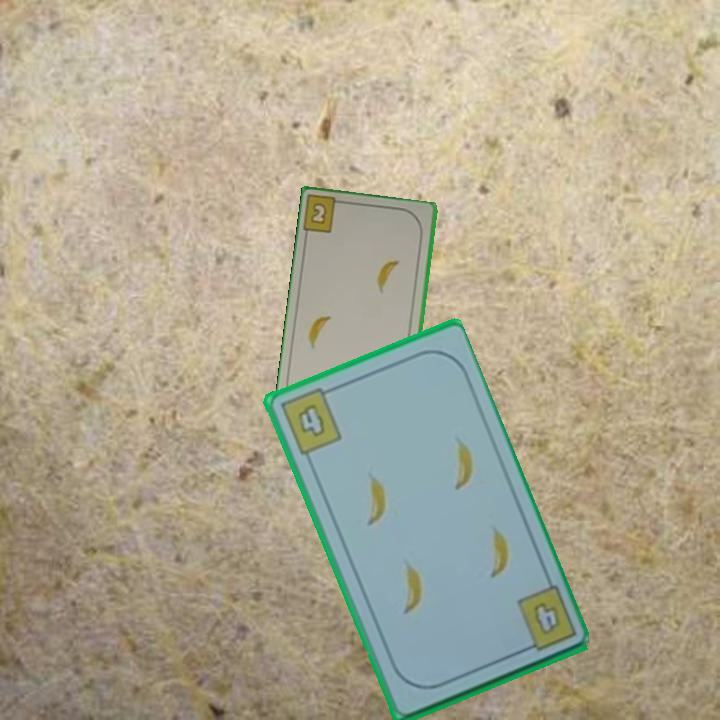2b: (301, 194, 350, 236)
4b: (276, 383, 345, 458), (513, 582, 579, 656)
